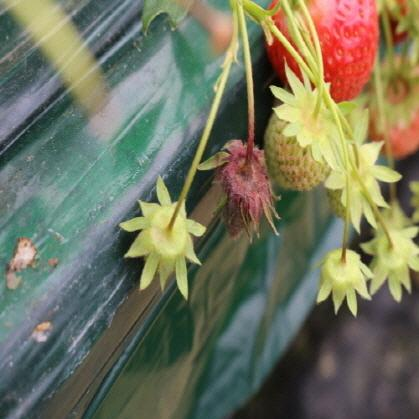Gray Mold: (212, 126, 283, 243)
